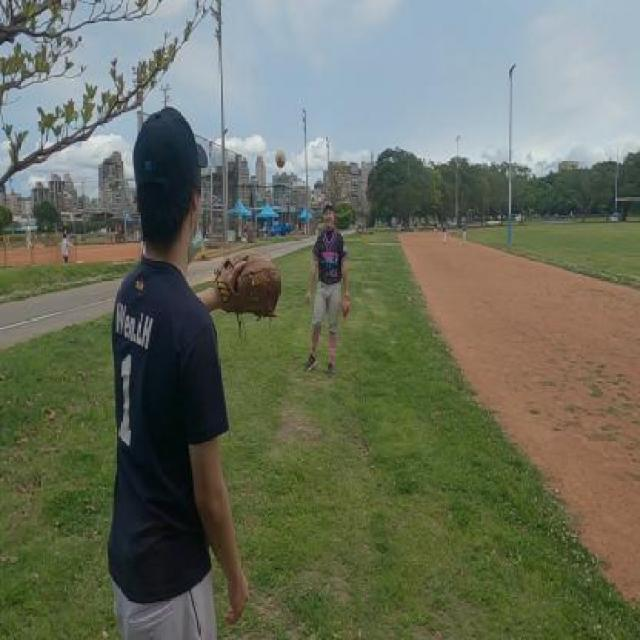baseball: (276, 148, 286, 169)
